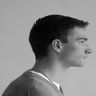ear: (50, 35, 66, 57)
